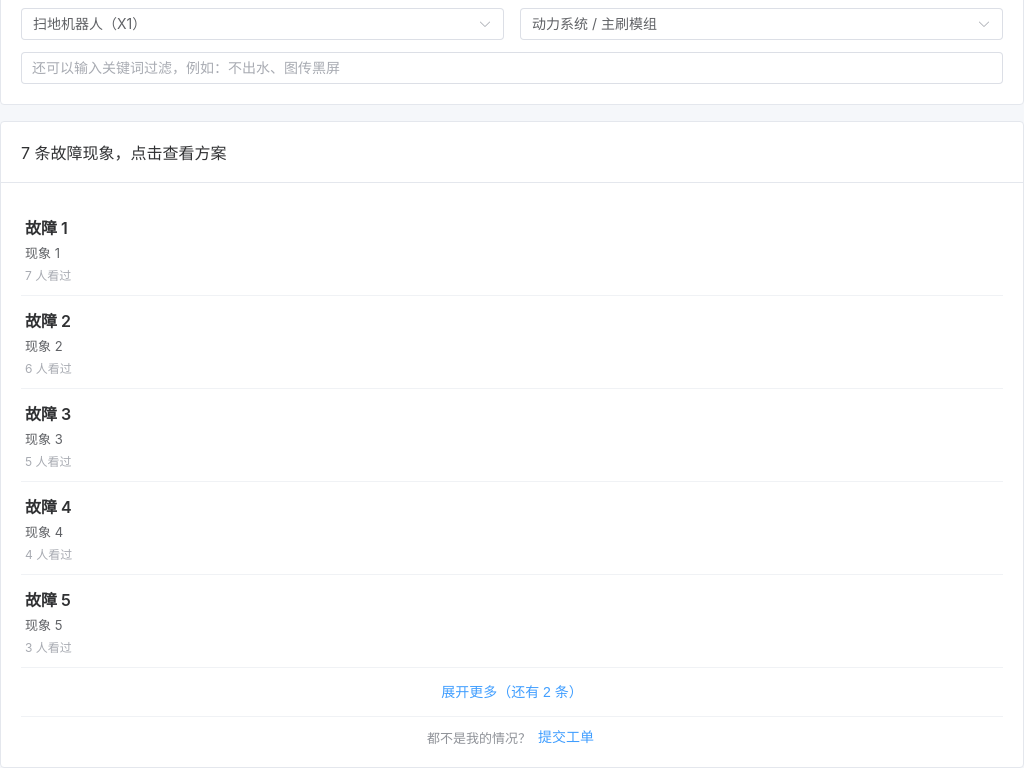
Home 列表即选择器 › 超过一屏时折叠，点「展开更多」再露出剩余条目
(page scrolled)
Expected: the number of elements with class "fault-item" is 5, [21,203,1003,296]; [21,296,1003,389]; [21,389,1003,482]; [21,482,1003,575]; [21,575,1003,668]
Click the button "展开更多（还有 2 条）": (512, 692) [426,676,598,708]
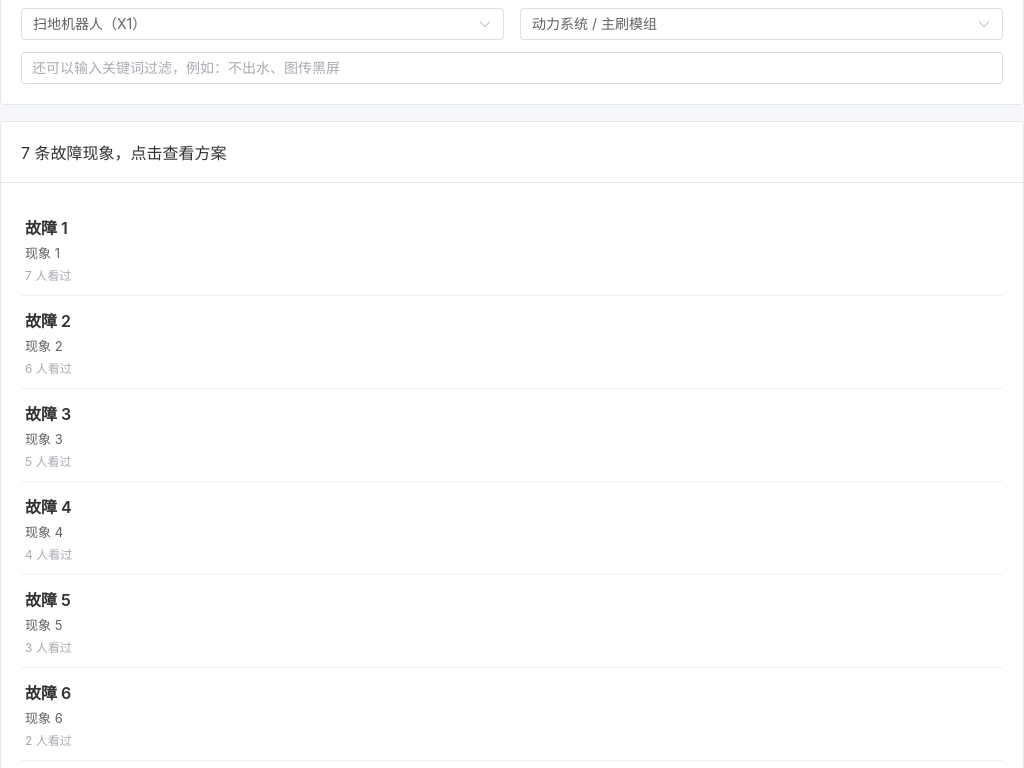
Expected: the number of elements with class "fault-item" is 7
